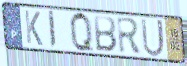B: (93, 14, 118, 54)
I: (47, 10, 58, 51)
K: (23, 9, 44, 48)
Q: (68, 10, 96, 56)
R: (115, 16, 144, 55)
U: (140, 17, 166, 59)
